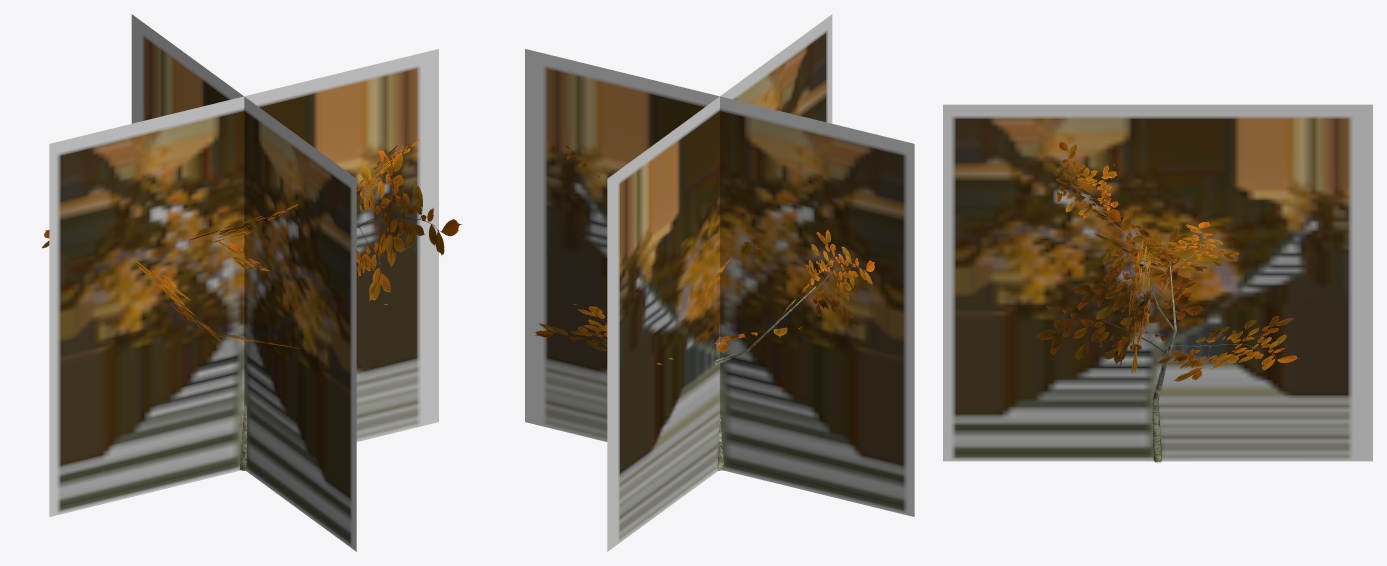
The model's file is Tree-Beech6B.fbx.
3 renders of one model, left to right at view 1: azimuth 30°, elevation 25°; view 2: azimuth 150°, elevation 25°; view 3: azimuth 270°, elevation 25°, orthographic. The views are drawn at different scales.
Parts seen in each view (by area): view 1: Billboard-BeechB, Tree-Beech6B_LOD0; view 2: Billboard-BeechB, Tree-Beech6B_LOD0; view 3: Billboard-BeechB, Tree-Beech6B_LOD0.
Boxes of the visible parts, <box> form: Billboard-BeechB: <box>49,14,438,551</box>; Tree-Beech6B_LOD0: <box>42,139,462,470</box>; Billboard-BeechB: <box>525,14,914,551</box>; Tree-Beech6B_LOD0: <box>535,145,874,470</box>; Billboard-BeechB: <box>943,104,1372,461</box>; Tree-Beech6B_LOD0: <box>1036,142,1298,462</box>.
Size of what is drawn, in the model's own units: 929 by 830 by 907.
